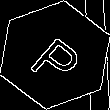P_NE: (23, 24, 87, 86)
